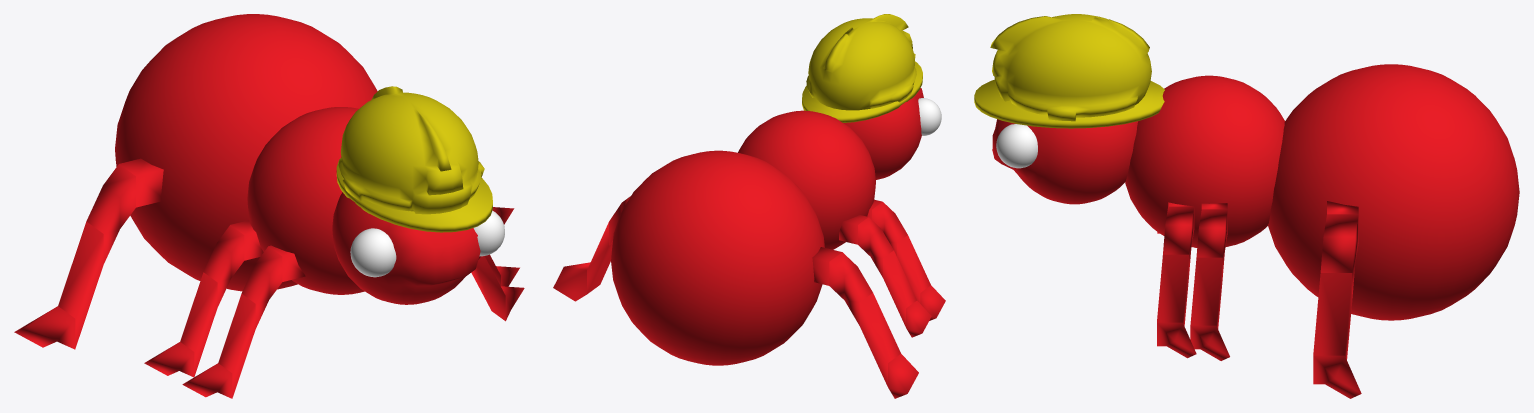
File: base_fourmi_rouge_contremaitre.dae
3 views of the same model, side by side, from view 1: azimuth 30°, elevation 25°; view 2: azimuth 150°, elevation 25°; view 3: azimuth 270°, elevation 25° (orthographic). The views are drawn at different scales.
Parts seen in each view (by area): view 1: Cube_003, Sphere; view 2: Cube_003, Sphere; view 3: Cube_003, Sphere.
Part boxes in pixels (x1,y1,x2,y2): Cube_003: (14,14,524,398); Sphere: (336,86,492,232); Cube_003: (553,88,945,398); Sphere: (802,14,922,122); Cube_003: (992,64,1519,398); Sphere: (974,14,1164,128).
Size of the model in its own units: 2.99 by 3.24 by 1.93.
